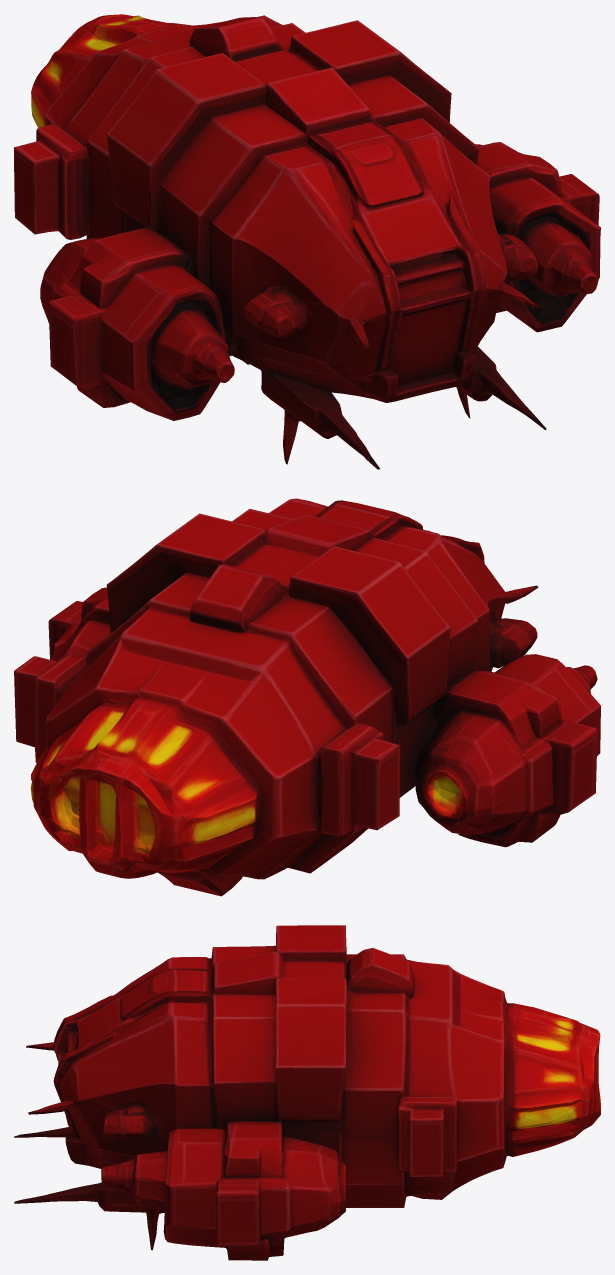
File: pirate old.glb
The picture shows the model from 3 angles, top to bottom: view 1: azimuth 30°, elevation 25°; view 2: azimuth 150°, elevation 25°; view 3: azimuth 270°, elevation 25°; orthographic projection. The views are drawn at different scales.
Visible parts, largest first — view 1: world; view 2: world; view 3: world.
Boxes of the visible parts, left/top/right/bottom form: world: left=14, top=14, right=600, bottom=469; world: left=14, top=498, right=600, bottom=896; world: left=14, top=925, right=600, bottom=1260.
Size of the model in its own units: 0.8345 by 0.4849 by 0.9982.
Materials: 1 (1 with a texture image).
